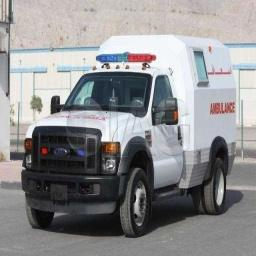Ambulance: (22, 35, 235, 236)
